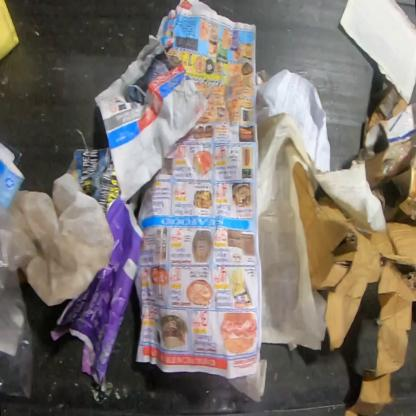cardboard: (292, 160, 416, 416), (390, 96, 408, 117)
soft_plastic: (6, 171, 115, 306), (0, 202, 40, 399)
